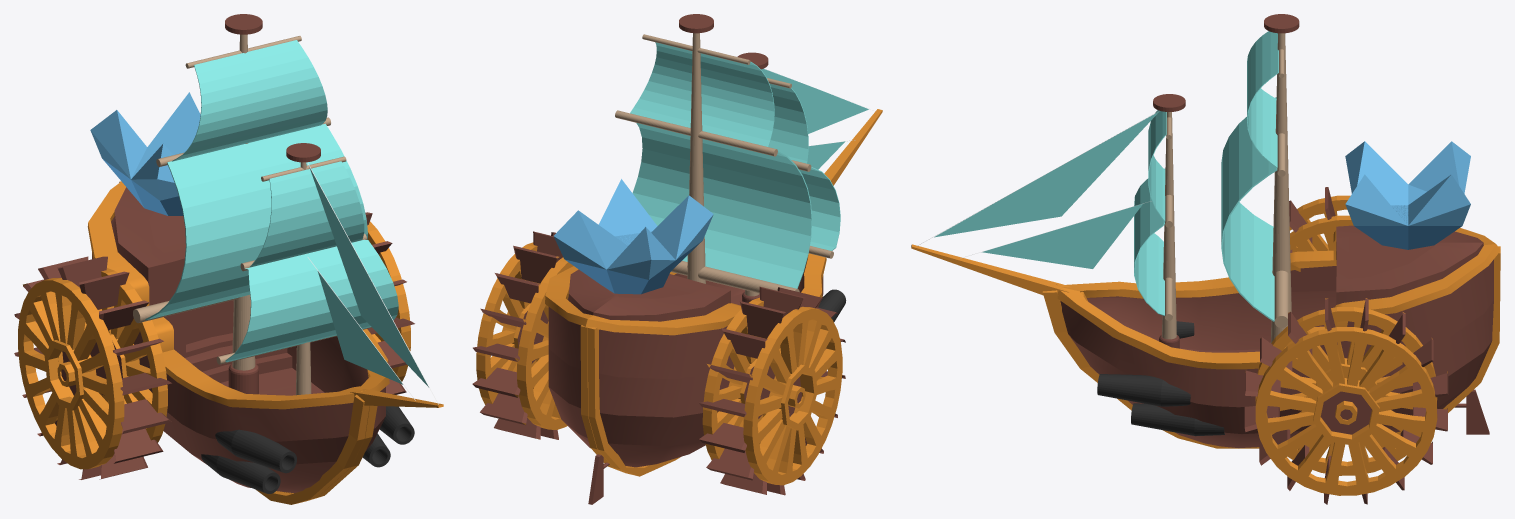
File: WaterTowerLV3.fbx
3 views of the same model, side by side, from view 1: azimuth 30°, elevation 25°; view 2: azimuth 150°, elevation 25°; view 3: azimuth 270°, elevation 25° (orthographic). The views are drawn at different scales.
Visible parts, largest first — view 1: Circle.002, Cube, Cylinder.028, Cylinder.029, Cylinder.021, Cylinder.022, Cube.003, Cube.007, Plane.001, Cube.004, Plane.003, Cylinder.034 (+11 smaller); view 2: Circle.002, Cube, Cylinder.028, Cylinder.029, Cube.007, Cube.003, Cube.004, Cylinder.024, Cylinder.022, Cylinder.021, Plane.001, Cube.006 (+7 smaller); view 3: Cube, Circle.002, Cube.003, Cube.007, Cylinder.028, Plane.001, Plane.003, Cylinder.029, Cylinder.021, Cylinder.024, Cube.004, Cylinder.032 (+6 smaller).
Boxes of the visible parts, left/top/right/bottom form: Circle.002: left=14, top=212, right=414, bottom=479; Cube: left=92, top=187, right=385, bottom=493; Cylinder.028: left=145, top=123, right=367, bottom=319; Cylinder.029: left=172, top=40, right=327, bottom=161; Cylinder.021: left=225, top=239, right=398, bottom=362; Cylinder.022: left=249, top=161, right=364, bottom=267; Cube.003: left=87, top=181, right=389, bottom=409; Cube.007: left=90, top=92, right=200, bottom=200; Plane.001: left=309, top=166, right=428, bottom=387; Cube.004: left=119, top=181, right=377, bottom=504; Plane.003: left=317, top=271, right=402, bottom=384; Cylinder.034: left=215, top=429, right=296, bottom=473; Circle.002: left=472, top=231, right=845, bottom=495; Cube: left=548, top=258, right=823, bottom=504; Cylinder.028: left=632, top=123, right=812, bottom=288; Cylinder.029: left=630, top=42, right=774, bottom=146; Cube.007: left=553, top=179, right=713, bottom=279; Cube.003: left=545, top=253, right=826, bottom=335; Cube.004: left=580, top=255, right=808, bottom=476; Cylinder.024: left=687, top=33, right=705, bottom=283; Cylinder.022: left=768, top=83, right=808, bottom=163; Cylinder.021: left=799, top=166, right=840, bottom=250; Plane.001: left=761, top=68, right=868, bottom=133; Cube.006: left=565, top=241, right=701, bottom=294; Cube: left=1060, top=225, right=1493, bottom=448; Circle.002: left=1244, top=187, right=1448, bottom=504; Cube.003: left=1057, top=228, right=1500, bottom=369; Cube.007: left=1345, top=141, right=1470, bottom=225; Cylinder.028: left=1221, top=97, right=1277, bottom=321; Plane.001: left=934, top=111, right=1159, bottom=237; Plane.003: left=982, top=204, right=1142, bottom=268; Cylinder.029: left=1247, top=31, right=1278, bottom=167; Cylinder.021: left=1134, top=168, right=1165, bottom=315; Cylinder.024: left=1270, top=33, right=1291, bottom=342; Cube.004: left=1042, top=246, right=1500, bottom=448; Cylinder.032: left=1097, top=374, right=1190, bottom=406.
Bounding box in the file's own units: 1983 × 2812 × 3546.
